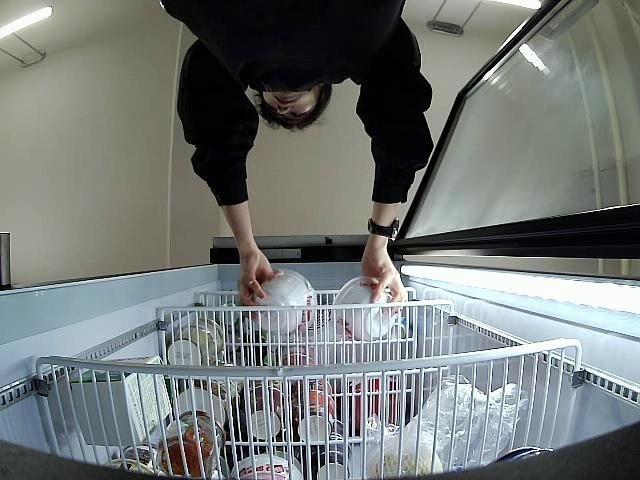09_yukGaeJang: (250, 270, 319, 338), (332, 276, 398, 342)
